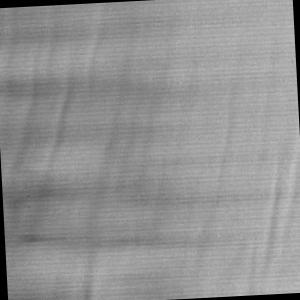Wrinkle: (1, 1, 147, 300), (174, 34, 300, 299)
